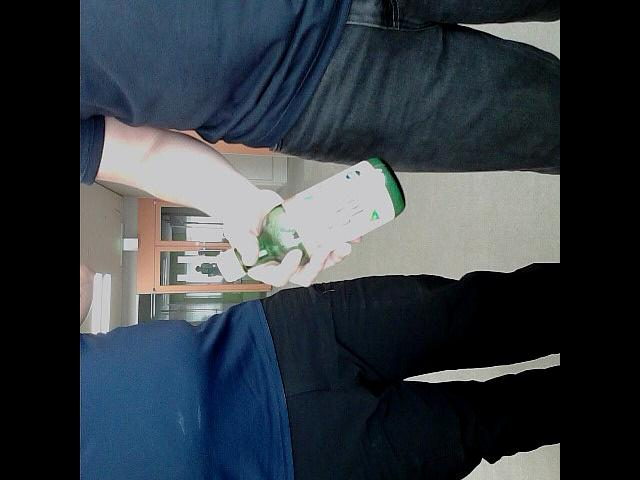Lemon_sapporo: (214, 152, 408, 282)
